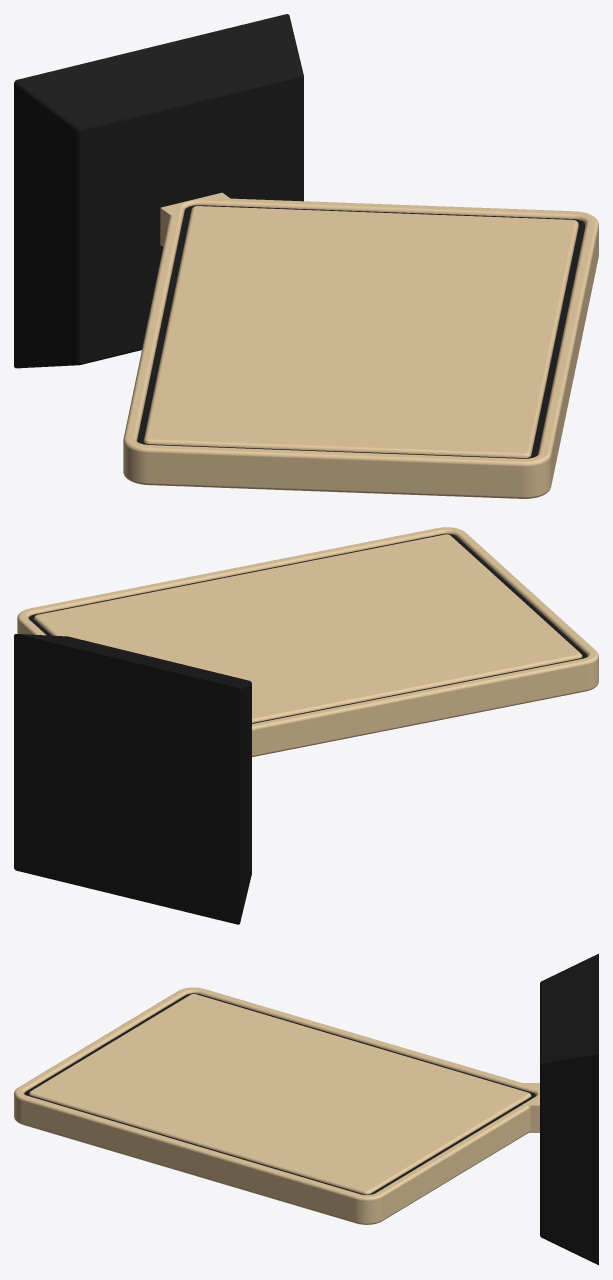
Rendered from trophy.obj.
3 views of the same model, one above another, from view 1: azimuth 30°, elevation 25°; view 2: azimuth 150°, elevation 25°; view 3: azimuth 270°, elevation 25° (orthographic). The views are drawn at different scales.
Visible parts, largest first — view 1: 2nd, Body1, main (1), timesTwo; view 2: 2nd, Body1, main (1), timesTwo; view 3: 2nd, Body1, main (1), timesTwo.
Part boxes in pixels (x1,y1,x2,y2): 2nd: (123,192,598,481); Body1: (14,14,303,368); main (1): (123,226,598,498); timesTwo: (137,205,584,458); 2nd: (17,527,598,742); Body1: (14,634,251,924); main (1): (17,632,598,757); timesTwo: (28,533,587,723); 2nd: (14,987,539,1211); Body1: (540,953,598,1265); main (1): (14,1106,539,1224); timesTwo: (24,993,535,1194).
Size of the model in its own units: 170 by 80 by 198.
